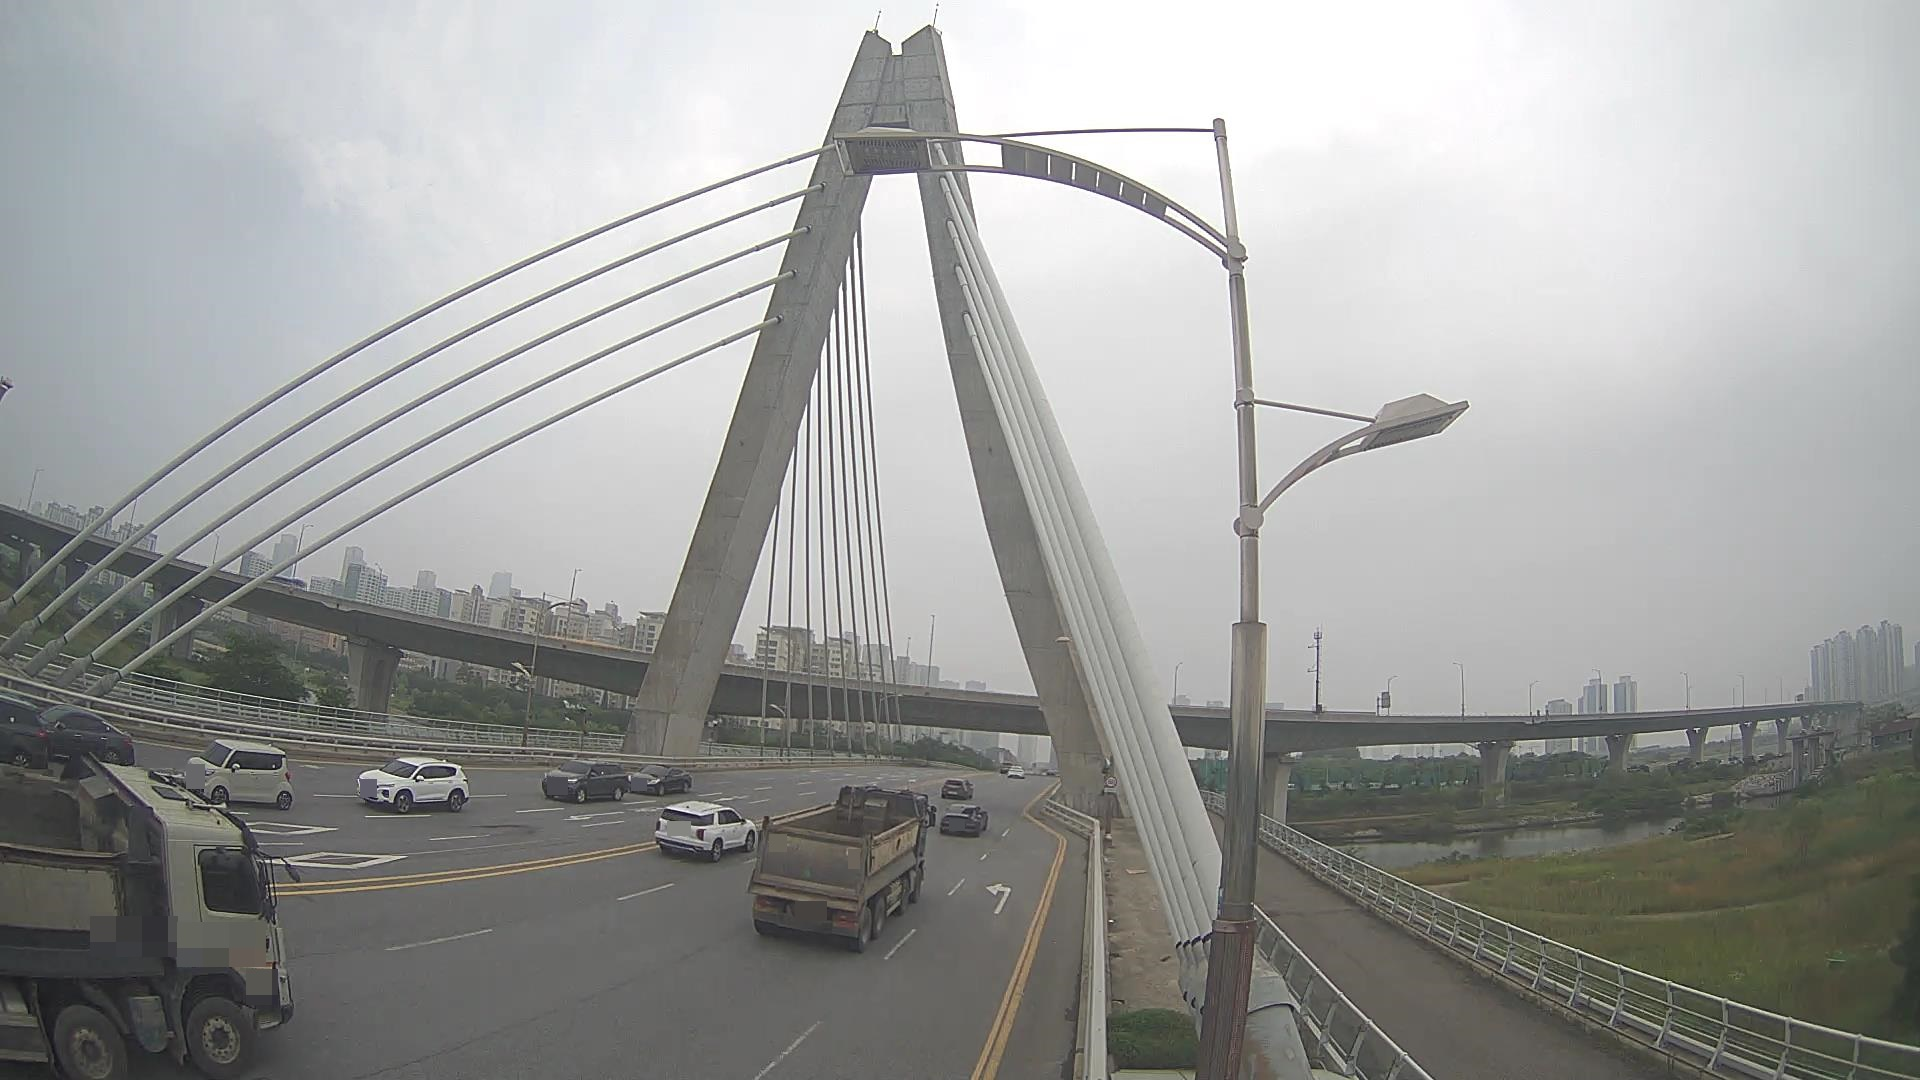정상차량: (746, 783, 938, 954)
